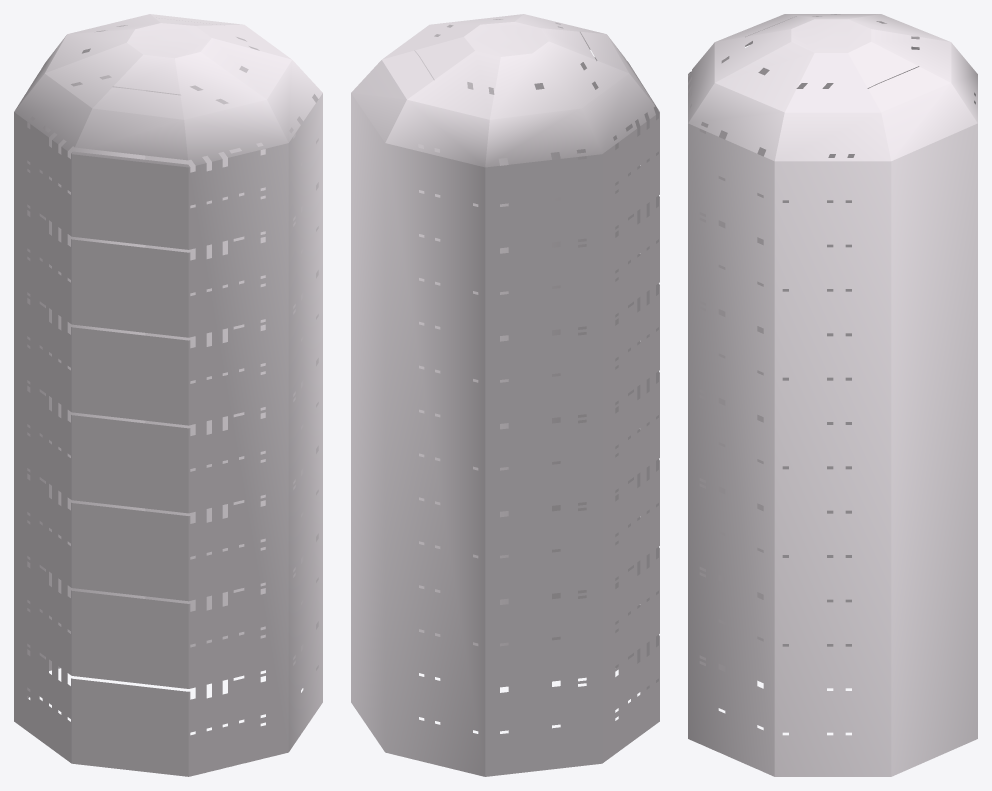
File: uvmd-0059.glb
3 renders of one model, left to right at view 1: azimuth 30°, elevation 25°; view 2: azimuth 150°, elevation 25°; view 3: azimuth 270°, elevation 25°, orthographic.
Visible parts, largest first — view 1: uvmd-0059; view 2: uvmd-0059; view 3: uvmd-0059.
Part boxes in pixels (bbox=[...]): uvmd-0059: bbox=[14, 14, 322, 776]; uvmd-0059: bbox=[351, 14, 659, 776]; uvmd-0059: bbox=[688, 14, 977, 776].
Bounding box in the file's own units: 88 × 225 × 87.
Materials: 1 (1 with a texture image).
